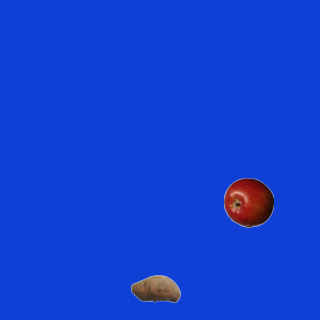Apple Braeburn: (223, 177, 273, 227)
Potato Sweet: (130, 263, 180, 313)
